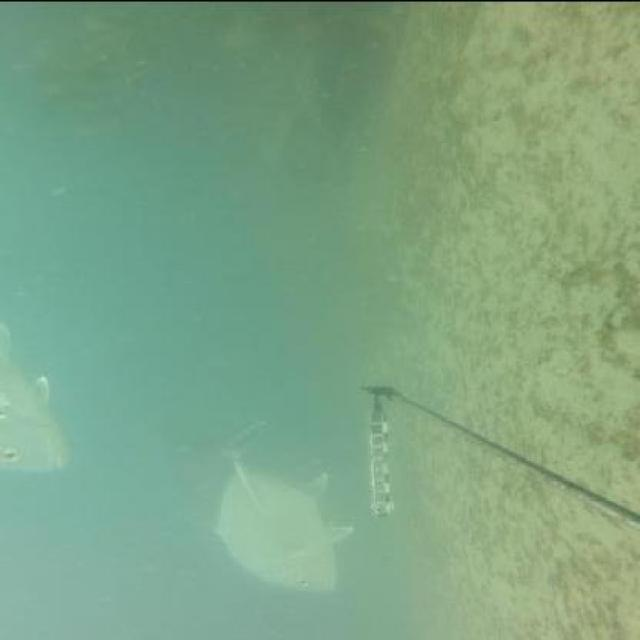Caranx: (169, 417, 357, 591), (0, 318, 83, 473)
